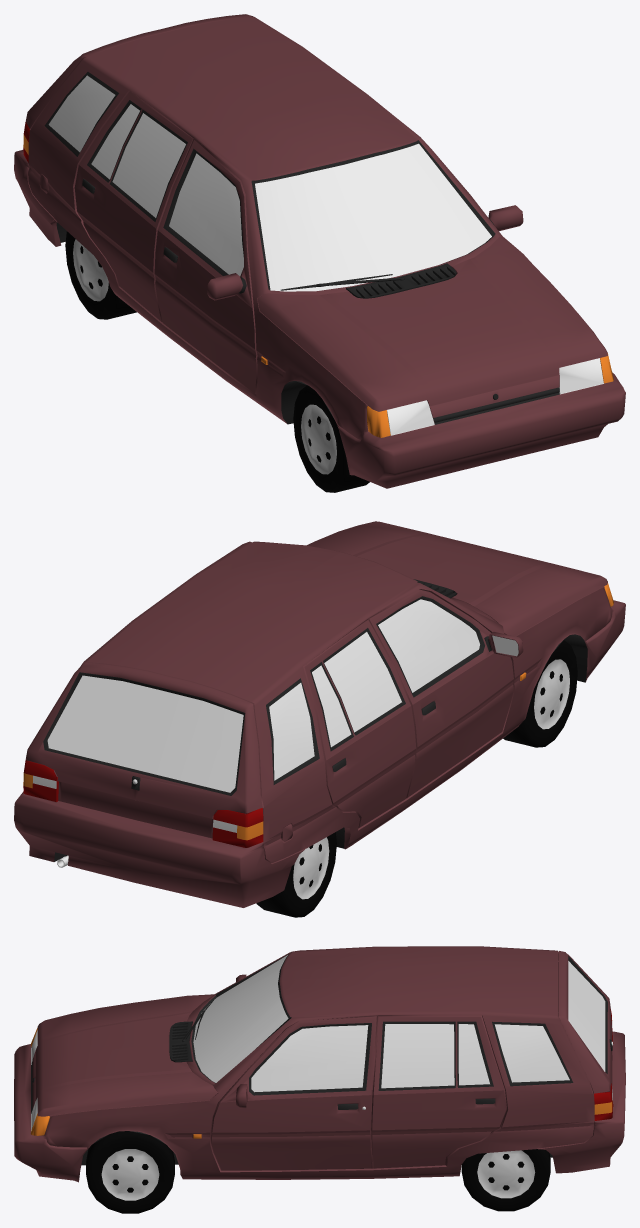
File: ZAZ_1105.fbx
3 views of the same model, one above another, from view 1: azimuth 30°, elevation 25°; view 2: azimuth 150°, elevation 25°; view 3: azimuth 270°, elevation 25° (orthographic). The views are drawn at different scales.
Parts seen in each view (by area): view 1: Body, Wheel.FR, Wheel.RR; view 2: Body, Wheel.FR, Wheel.RR; view 3: Body, Wheel.FL, Wheel.RL.
Boxes of the visible parts, x1,y1,x2,y2 form: Body: (14,14,625,488); Wheel.FR: (293,385,369,492); Wheel.RR: (65,231,136,319); Body: (14,521,625,907); Wheel.FR: (503,640,577,747); Wheel.RR: (256,832,336,917); Body: (14,946,625,1182); Wheel.FL: (86,1131,174,1213); Wheel.RL: (461,1149,550,1211).
Bounding box in the file's own units: 190 × 139 × 402.
